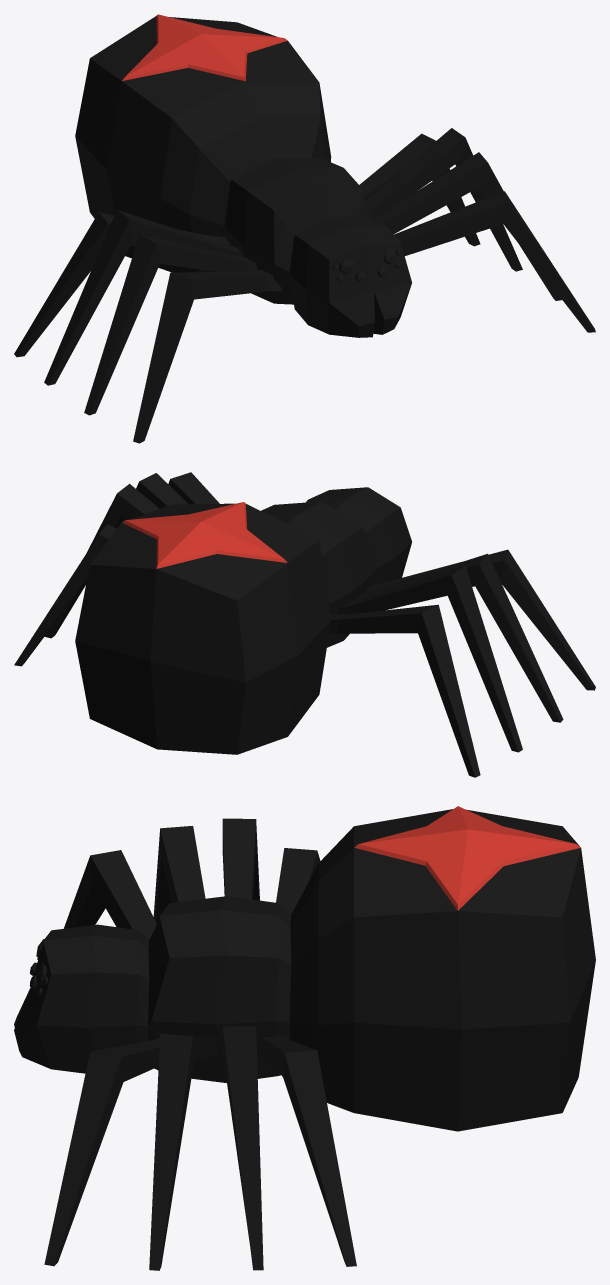
Rendered from Spider_01.fbx.
3 views of the same model, one above another, from view 1: azimuth 30°, elevation 25°; view 2: azimuth 150°, elevation 25°; view 3: azimuth 270°, elevation 25° (orthographic). The views are drawn at different scales.
Visible parts, largest first — view 1: Spider_01; view 2: Spider_01; view 3: Spider_01.
Part boxes in pixels (x1,y1,x2,y2): Spider_01: (14,14,595,443); Spider_01: (14,472,595,777); Spider_01: (14,806,595,1270).
Size of the model in its own units: 5.45 by 2.53 by 4.54.
